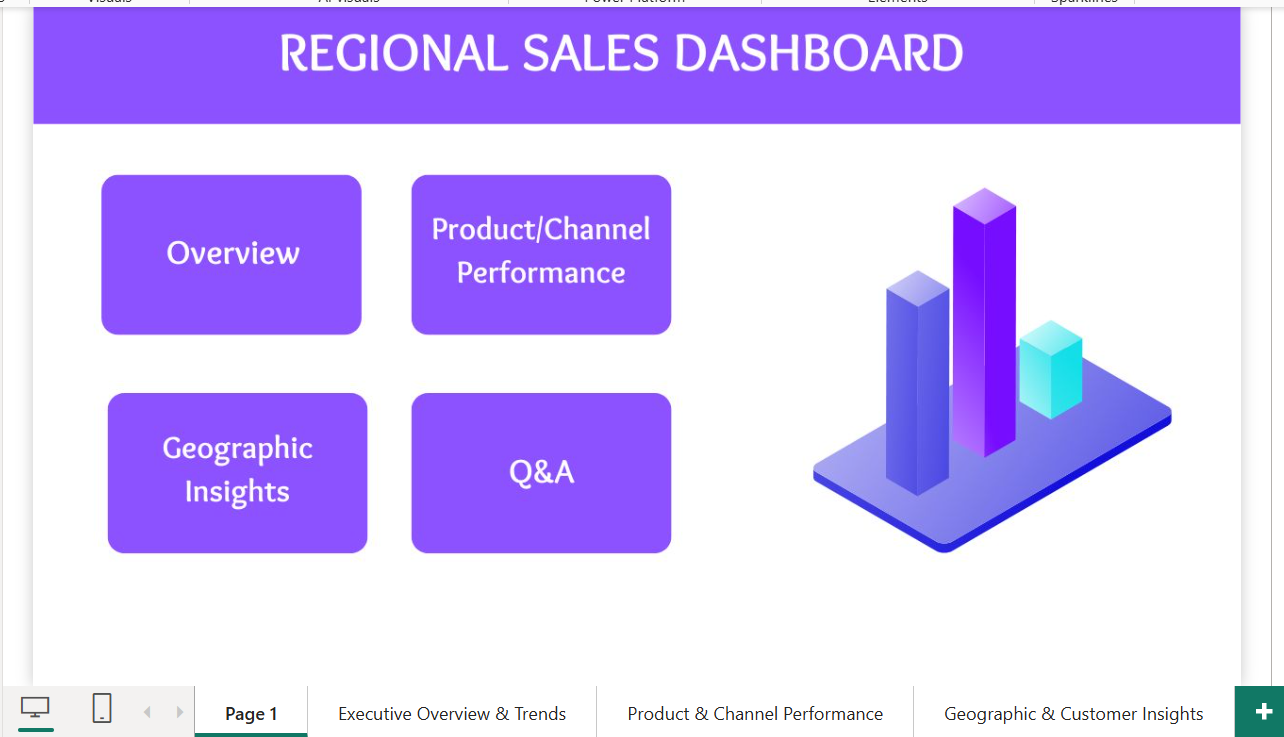

What the dashboard file says about the page in this screenshot:
{"tool":"powerbi","page":{"name":"Page 1","canvas":[1280,720],"ordinal":0},"visuals":[{"type":"actionButton","box":[92.3,202,240.2,144.7],"z":0},{"type":"actionButton","box":[421.5,202,243.4,144.7],"z":1},{"type":"actionButton","box":[240.2,427.9,240.2,133.6],"z":2}]}

Visuals, with their boxes on the page's 1280x720 design canvas (x1, y1, x2, y2). These are canvas units, not pixel positions in the 1284x737 screenshot, which may show the page scaled, cropped or inside an application window:
actionButton: region(92, 202, 332, 347)
actionButton: region(422, 202, 665, 347)
actionButton: region(240, 428, 480, 562)
